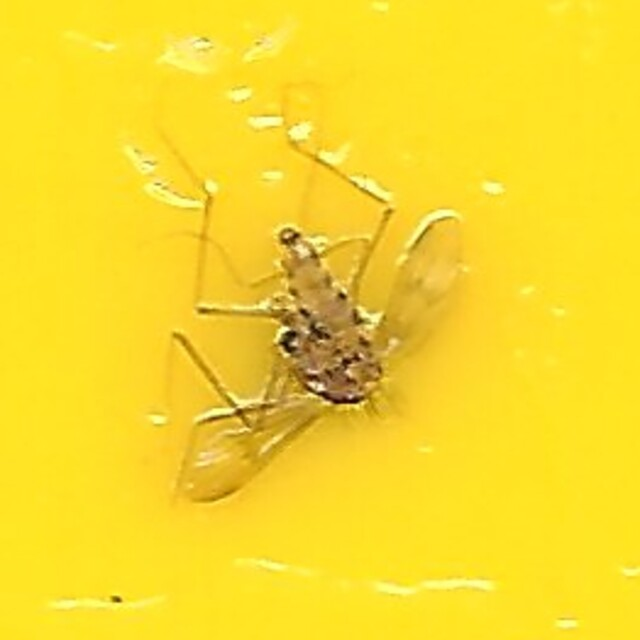Nematocera: (244, 221, 396, 419)
